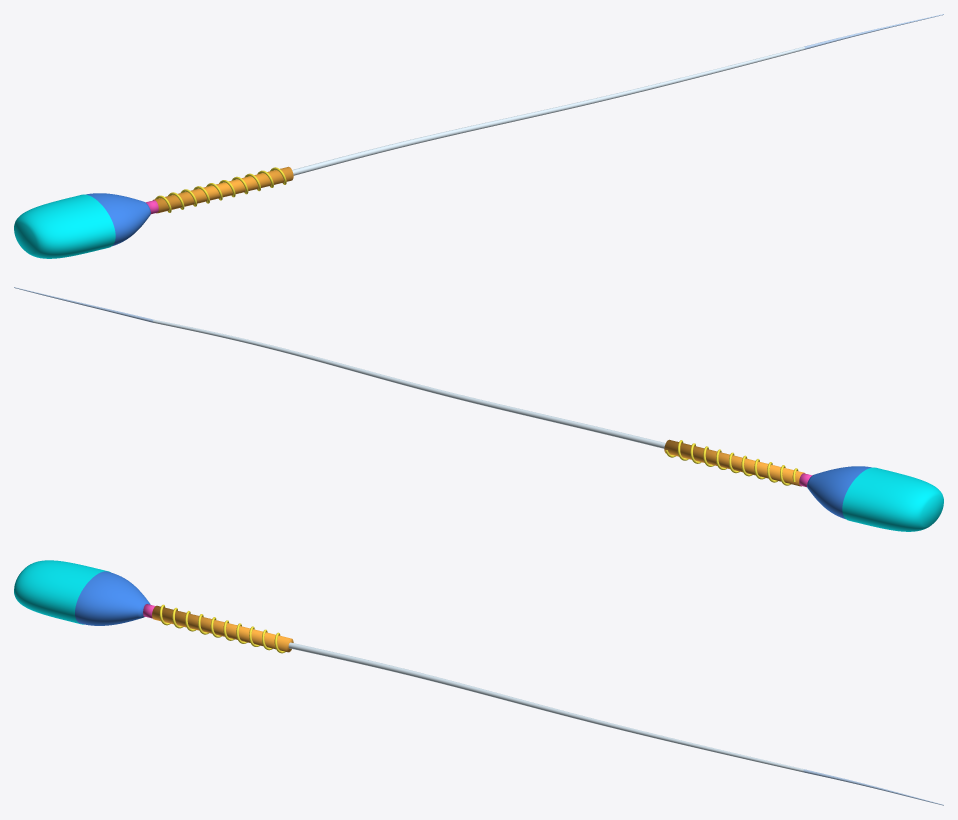
File: 01_Cabeza_piriforme.glb
3 renders of one model, top to bottom at view 1: azimuth 30°, elevation 25°; view 2: azimuth 150°, elevation 25°; view 3: azimuth 330°, elevation 25°, orthographic.
Parts seen in each view (by area): view 1: Cubierta_acrosomal_piriforme, Cola_pieza_principal.001, Pieza_intermedia.001, Cabeza_nucleo_piriforme, Helice_mitocondrial_didactica.001; view 2: Cubierta_acrosomal_piriforme, Cola_pieza_principal.001, Pieza_intermedia.001, Cabeza_nucleo_piriforme, Helice_mitocondrial_didactica.001; view 3: Cubierta_acrosomal_piriforme, Cabeza_nucleo_piriforme, Cola_pieza_principal.001, Pieza_intermedia.001, Helice_mitocondrial_didactica.001.
Part boxes in pixels (left/top/right/bottom): Cubierta_acrosomal_piriforme: left=14, top=194, right=115, bottom=258; Cola_pieza_principal.001: left=292, top=46, right=804, bottom=175; Pieza_intermedia.001: left=153, top=166, right=293, bottom=213; Cabeza_nucleo_piriforme: left=86, top=193, right=150, bottom=246; Helice_mitocondrial_didactica.001: left=155, top=167, right=286, bottom=212; Cubierta_acrosomal_piriforme: left=842, top=467, right=943, bottom=531; Cola_pieza_principal.001: left=153, top=319, right=665, bottom=448; Pieza_intermedia.001: left=664, top=439, right=804, bottom=486; Cabeza_nucleo_piriforme: left=807, top=466, right=871, bottom=519; Helice_mitocondrial_didactica.001: left=665, top=440, right=798, bottom=485; Cubierta_acrosomal_piriforme: left=14, top=560, right=110, bottom=624; Cabeza_nucleo_piriforme: left=75, top=571, right=150, bottom=625; Cola_pieza_principal.001: left=288, top=642, right=803, bottom=772; Pieza_intermedia.001: left=152, top=605, right=293, bottom=652; Helice_mitocondrial_didactica.001: left=159, top=604, right=285, bottom=653.
Size of the model in its own units: 62.64 by 2.9 by 4.79.
